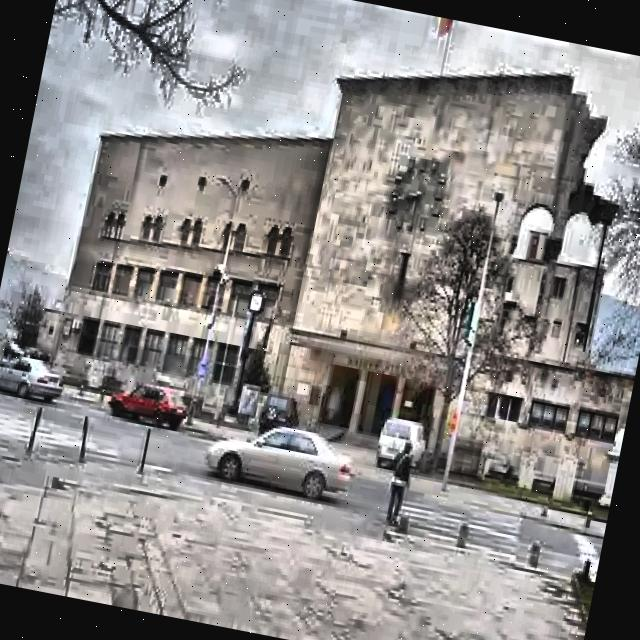old railway: (42, 0, 640, 496)
